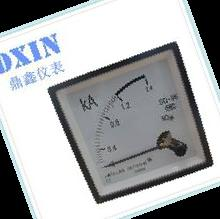pointer: (55, 50, 206, 197)
